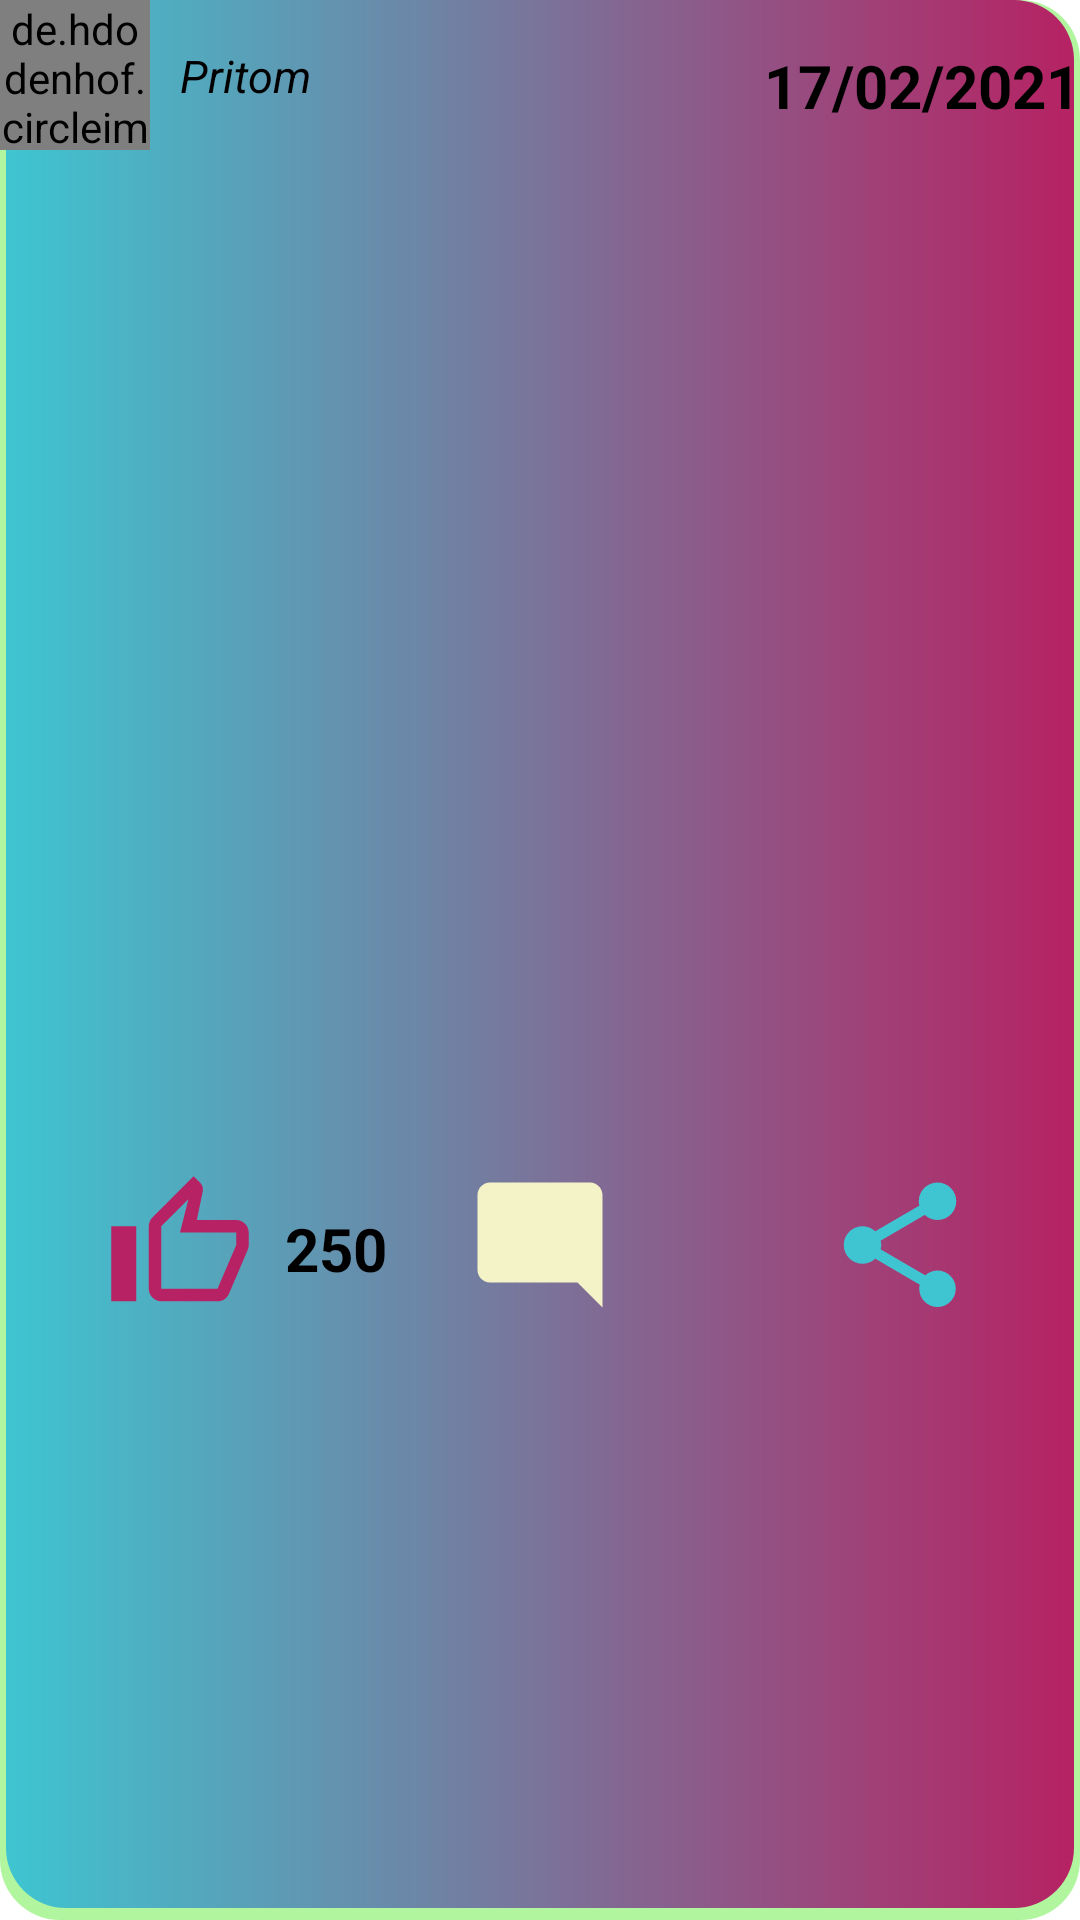

Screen size 1080px×1920px. Icon name, then its center in pixels as (x=x, y=y):
comment: (x=540, y=1245)
share: (x=900, y=1245)
